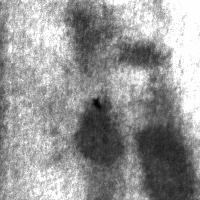patches: (82, 123, 200, 200), (130, 76, 195, 200), (59, 52, 147, 140), (144, 79, 200, 187), (62, 4, 136, 72), (72, 96, 125, 167), (107, 35, 179, 75)
